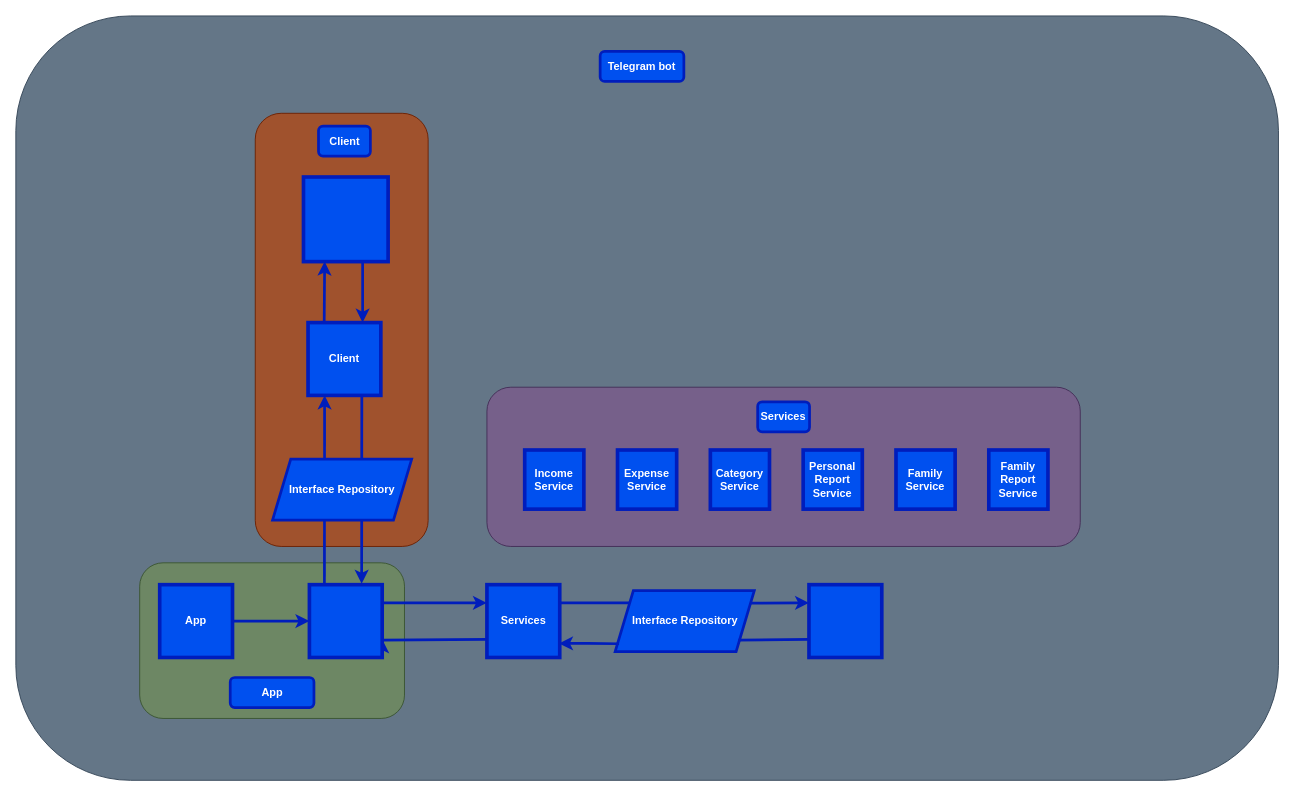
This 1295x796 diagram has some shape labels left out. The centre of each missing label's shape, as x and y in pixels:
"Command" goes at pixel 345 620.
"Repository" goes at pixel 845 620.
"State Machine" goes at pixel 345 219.
